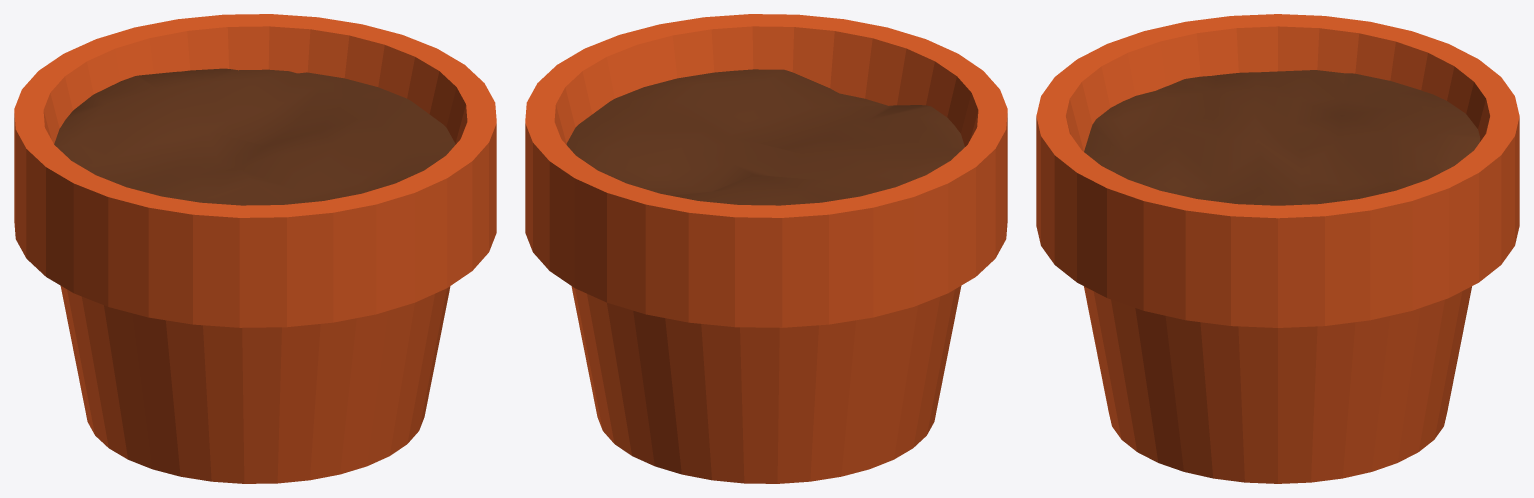
The model's file is plant_pot.fbx.
3 views of the same model, side by side, from view 1: azimuth 30°, elevation 25°; view 2: azimuth 150°, elevation 25°; view 3: azimuth 270°, elevation 25° (orthographic).
Parts seen in each view (by area): view 1: Cylinder.006, Cube.008; view 2: Cylinder.006, Cube.008; view 3: Cylinder.006, Cube.008.
Boxes of the visible parts, box(x1,y1,x2,y2) form: Cylinder.006: box(14, 14, 496, 483); Cube.008: box(54, 68, 455, 205); Cylinder.006: box(525, 14, 1007, 483); Cube.008: box(566, 69, 964, 205); Cylinder.006: box(1036, 14, 1519, 483); Cube.008: box(1084, 70, 1480, 205).
Bounding box in the file's own units: 200 × 135 × 200.
